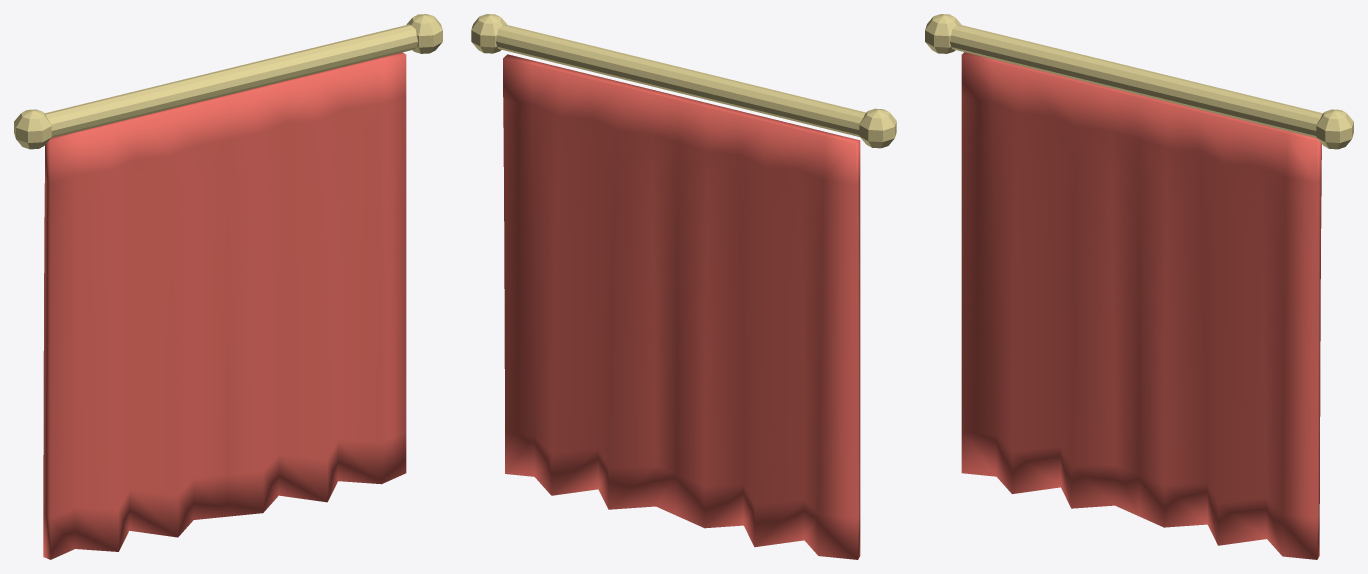
Rendered from Curtain.fbx.
3 views of the same model, side by side, from view 1: azimuth 30°, elevation 25°; view 2: azimuth 150°, elevation 25°; view 3: azimuth 330°, elevation 25° (orthographic).
Visible parts, largest first — view 1: Curtain; view 2: Curtain; view 3: Curtain.
Boxes of the visible parts, x1,y1,x2,y2 form: Curtain: [14, 14, 442, 559]; Curtain: [471, 14, 896, 559]; Curtain: [925, 14, 1353, 559].
Size of the model in its own units: 0.9561 by 0.9751 by 0.1096.
